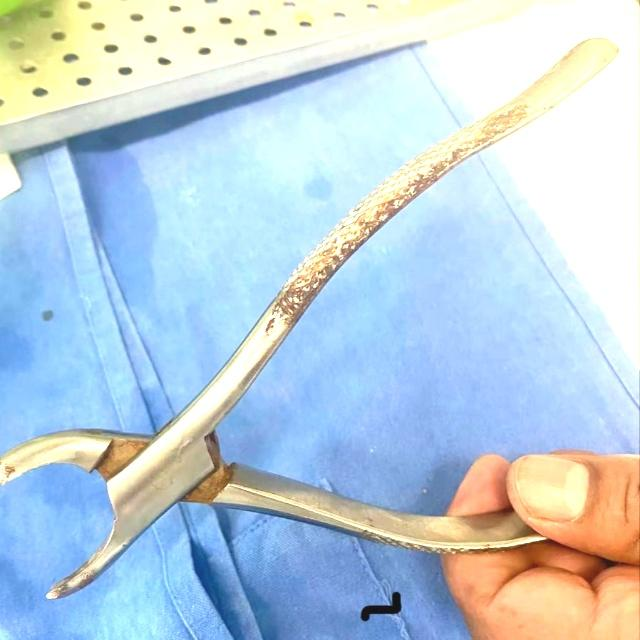forceps: (0, 38, 609, 602)
